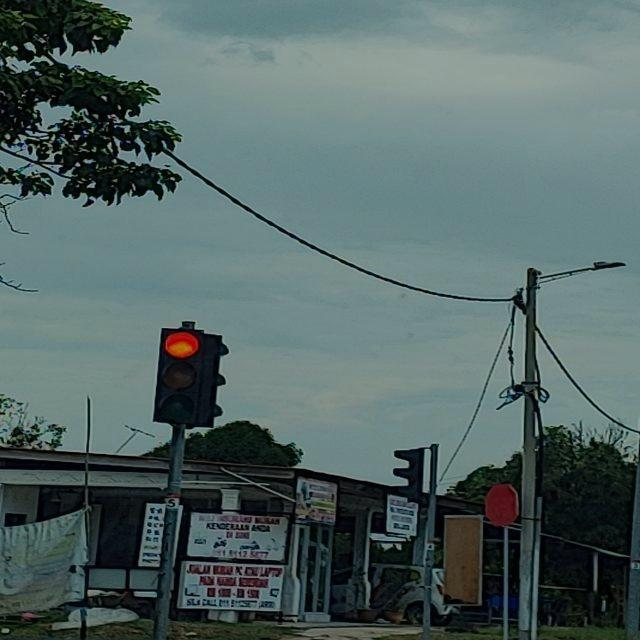Red: (150, 330, 205, 422)
